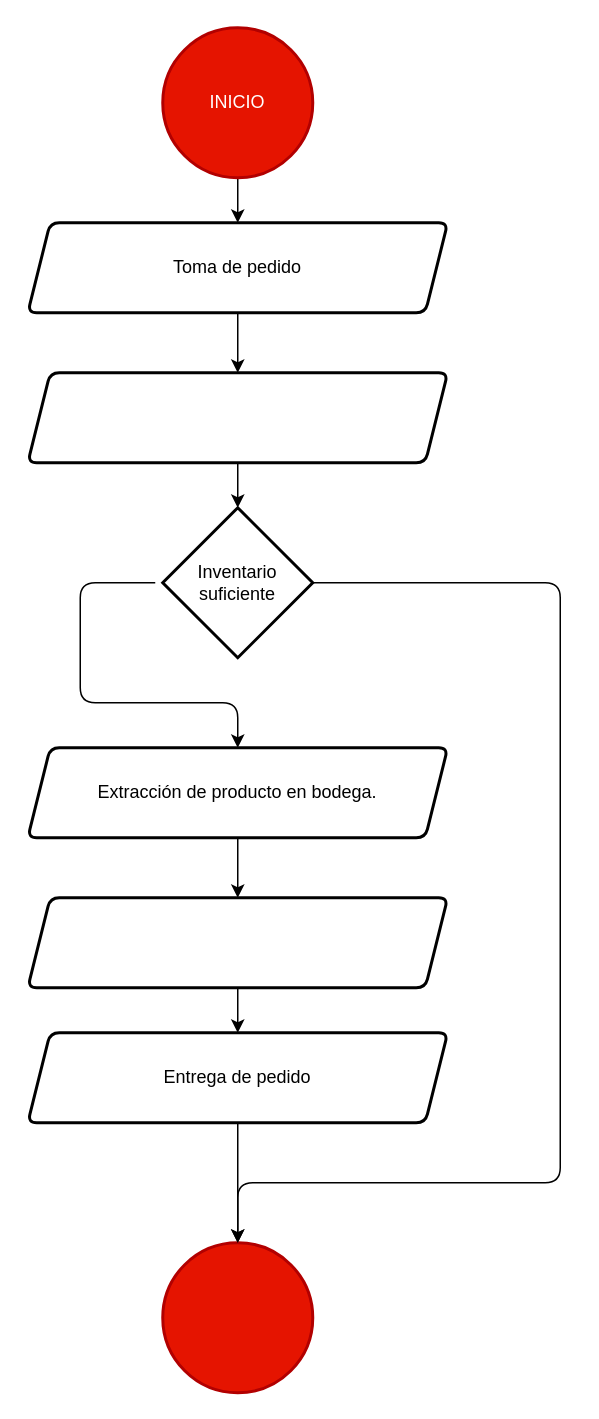
Some shapes in this 599 by 1419 pixel diagram are drawn without their labels. Each missing label, with the centre of its shape:
"Comprobar inventario" goes at pixel 237 417.
"FIN" goes at pixel 237 1317.
"Generar factura" goes at pixel 237 942.
